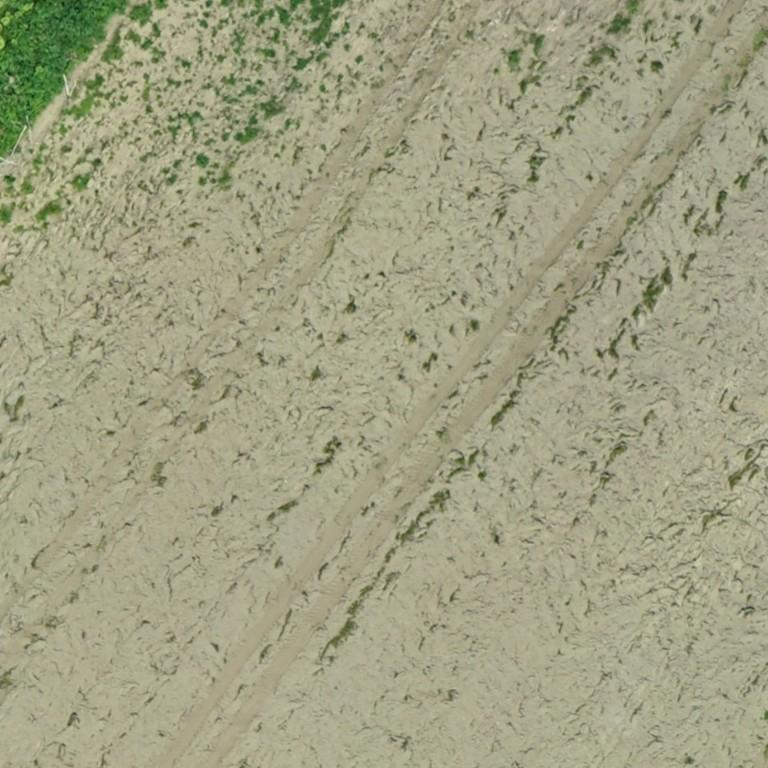hogweed: (0, 0, 124, 160)
